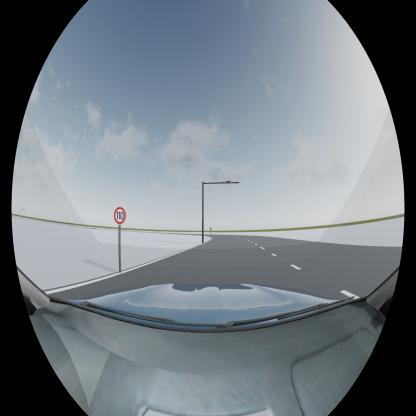Red Light: (226, 180, 233, 184)
Speed Limit 110: (114, 206, 126, 224)
